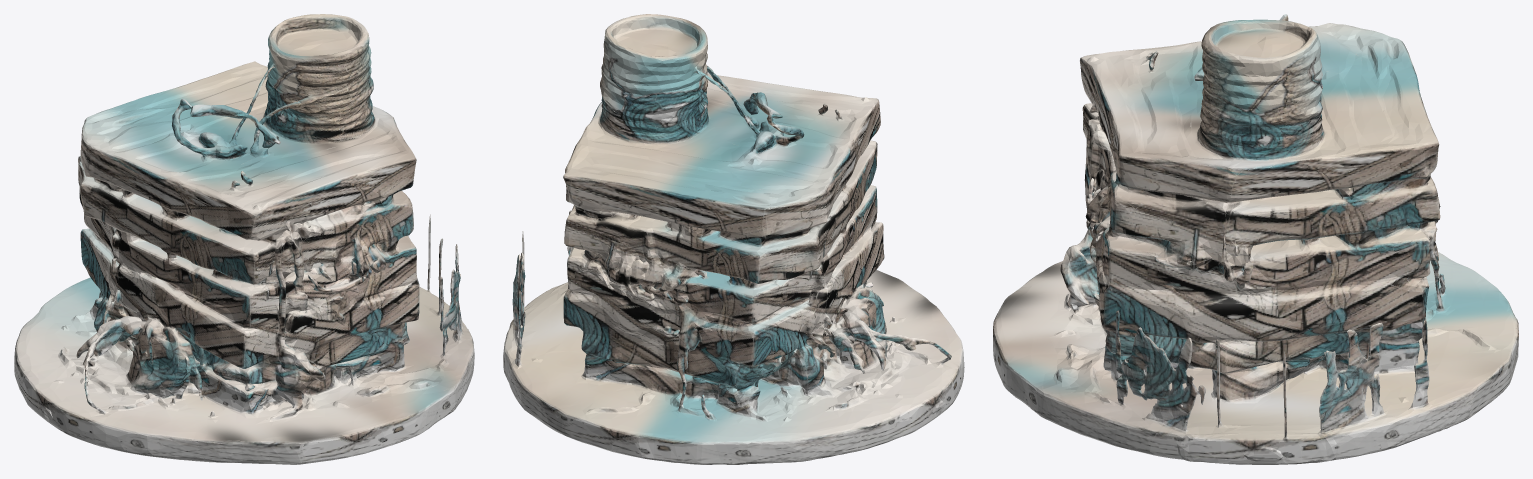
File: kit_pallets.glb
3 renders of one model, left to right at view 1: azimuth 30°, elevation 25°; view 2: azimuth 150°, elevation 25°; view 3: azimuth 270°, elevation 25°, orthographic. The views are drawn at different scales.
Visible parts, largest first — view 1: kit_pallets; view 2: kit_pallets; view 3: kit_pallets.
Part boxes in pixels (x1,y1,x2,y2): kit_pallets: (14,14,474,464); kit_pallets: (503,14,964,464); kit_pallets: (993,14,1518,464).
Size of the model in its own units: 1.02 by 0.8 by 1.02.
Materials: 1 (1 with a texture image).
